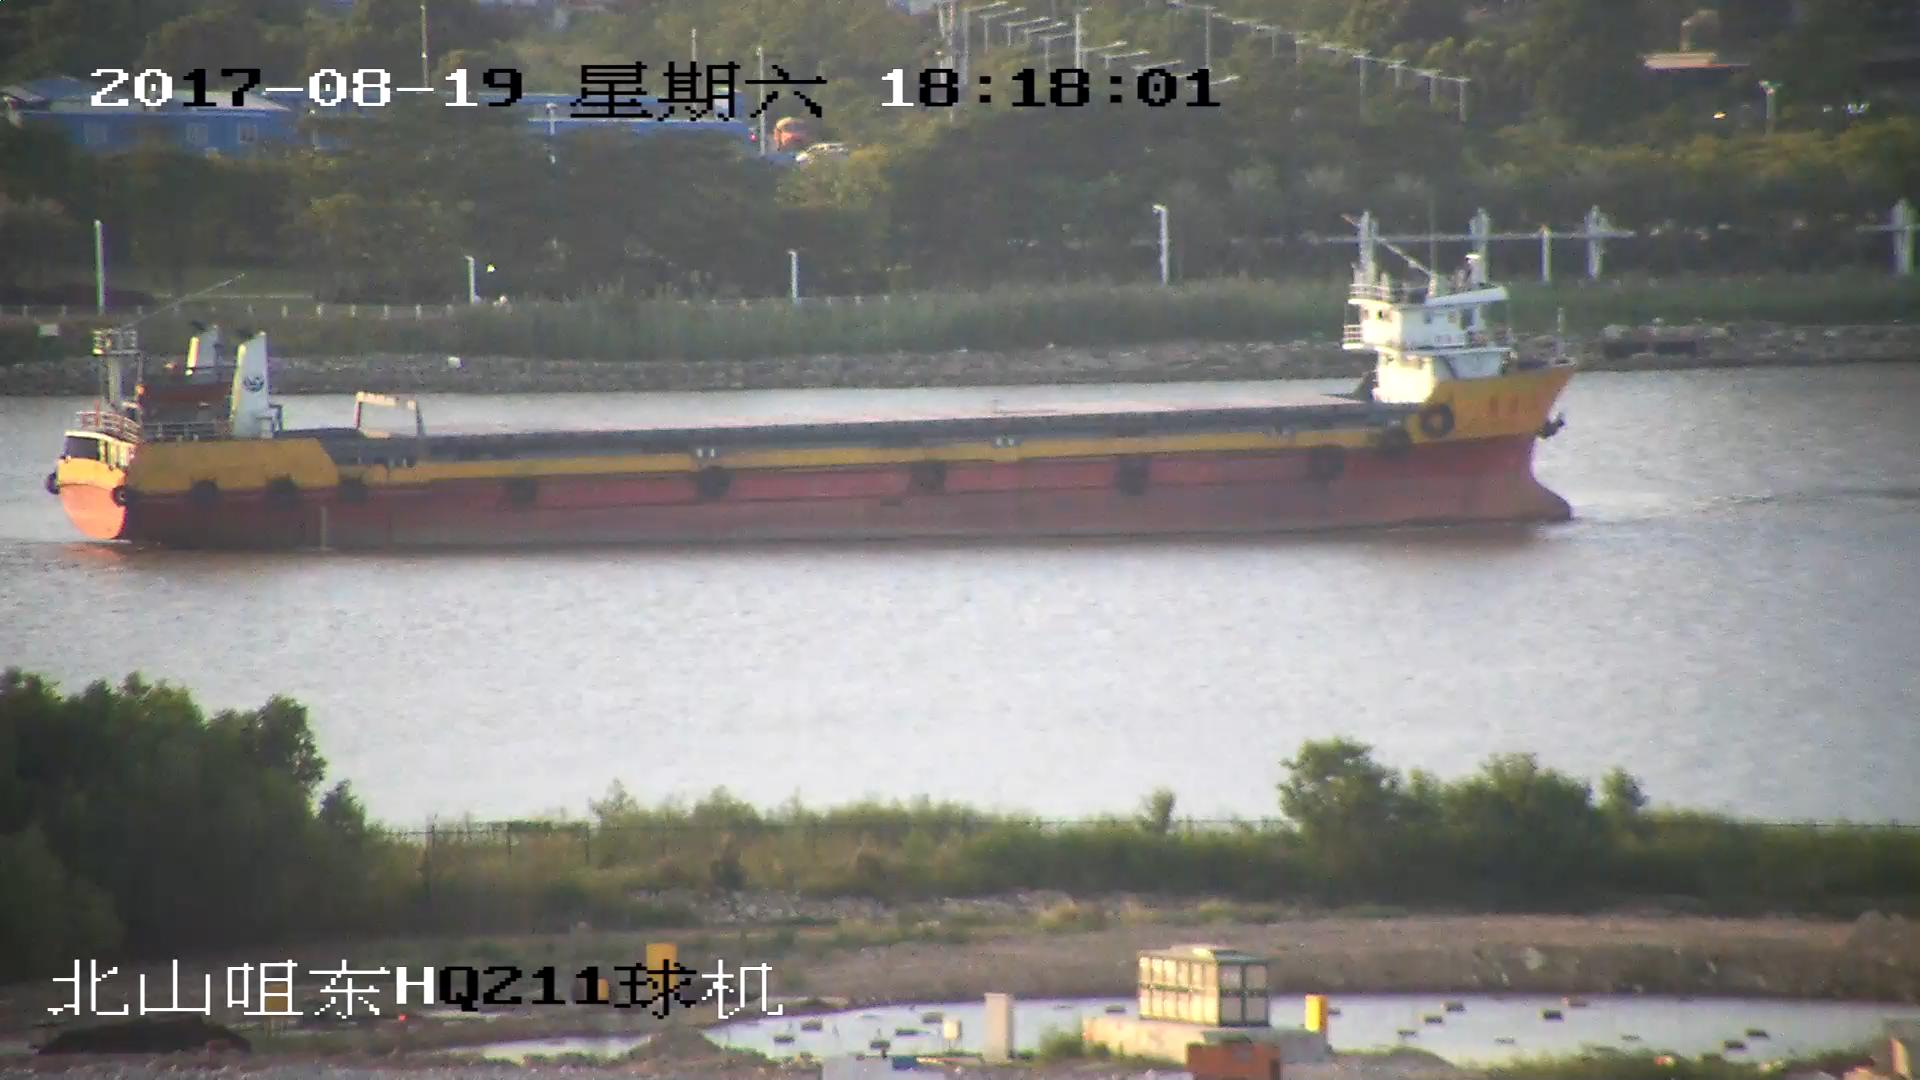general cargo ship: (72, 228, 1568, 547)
